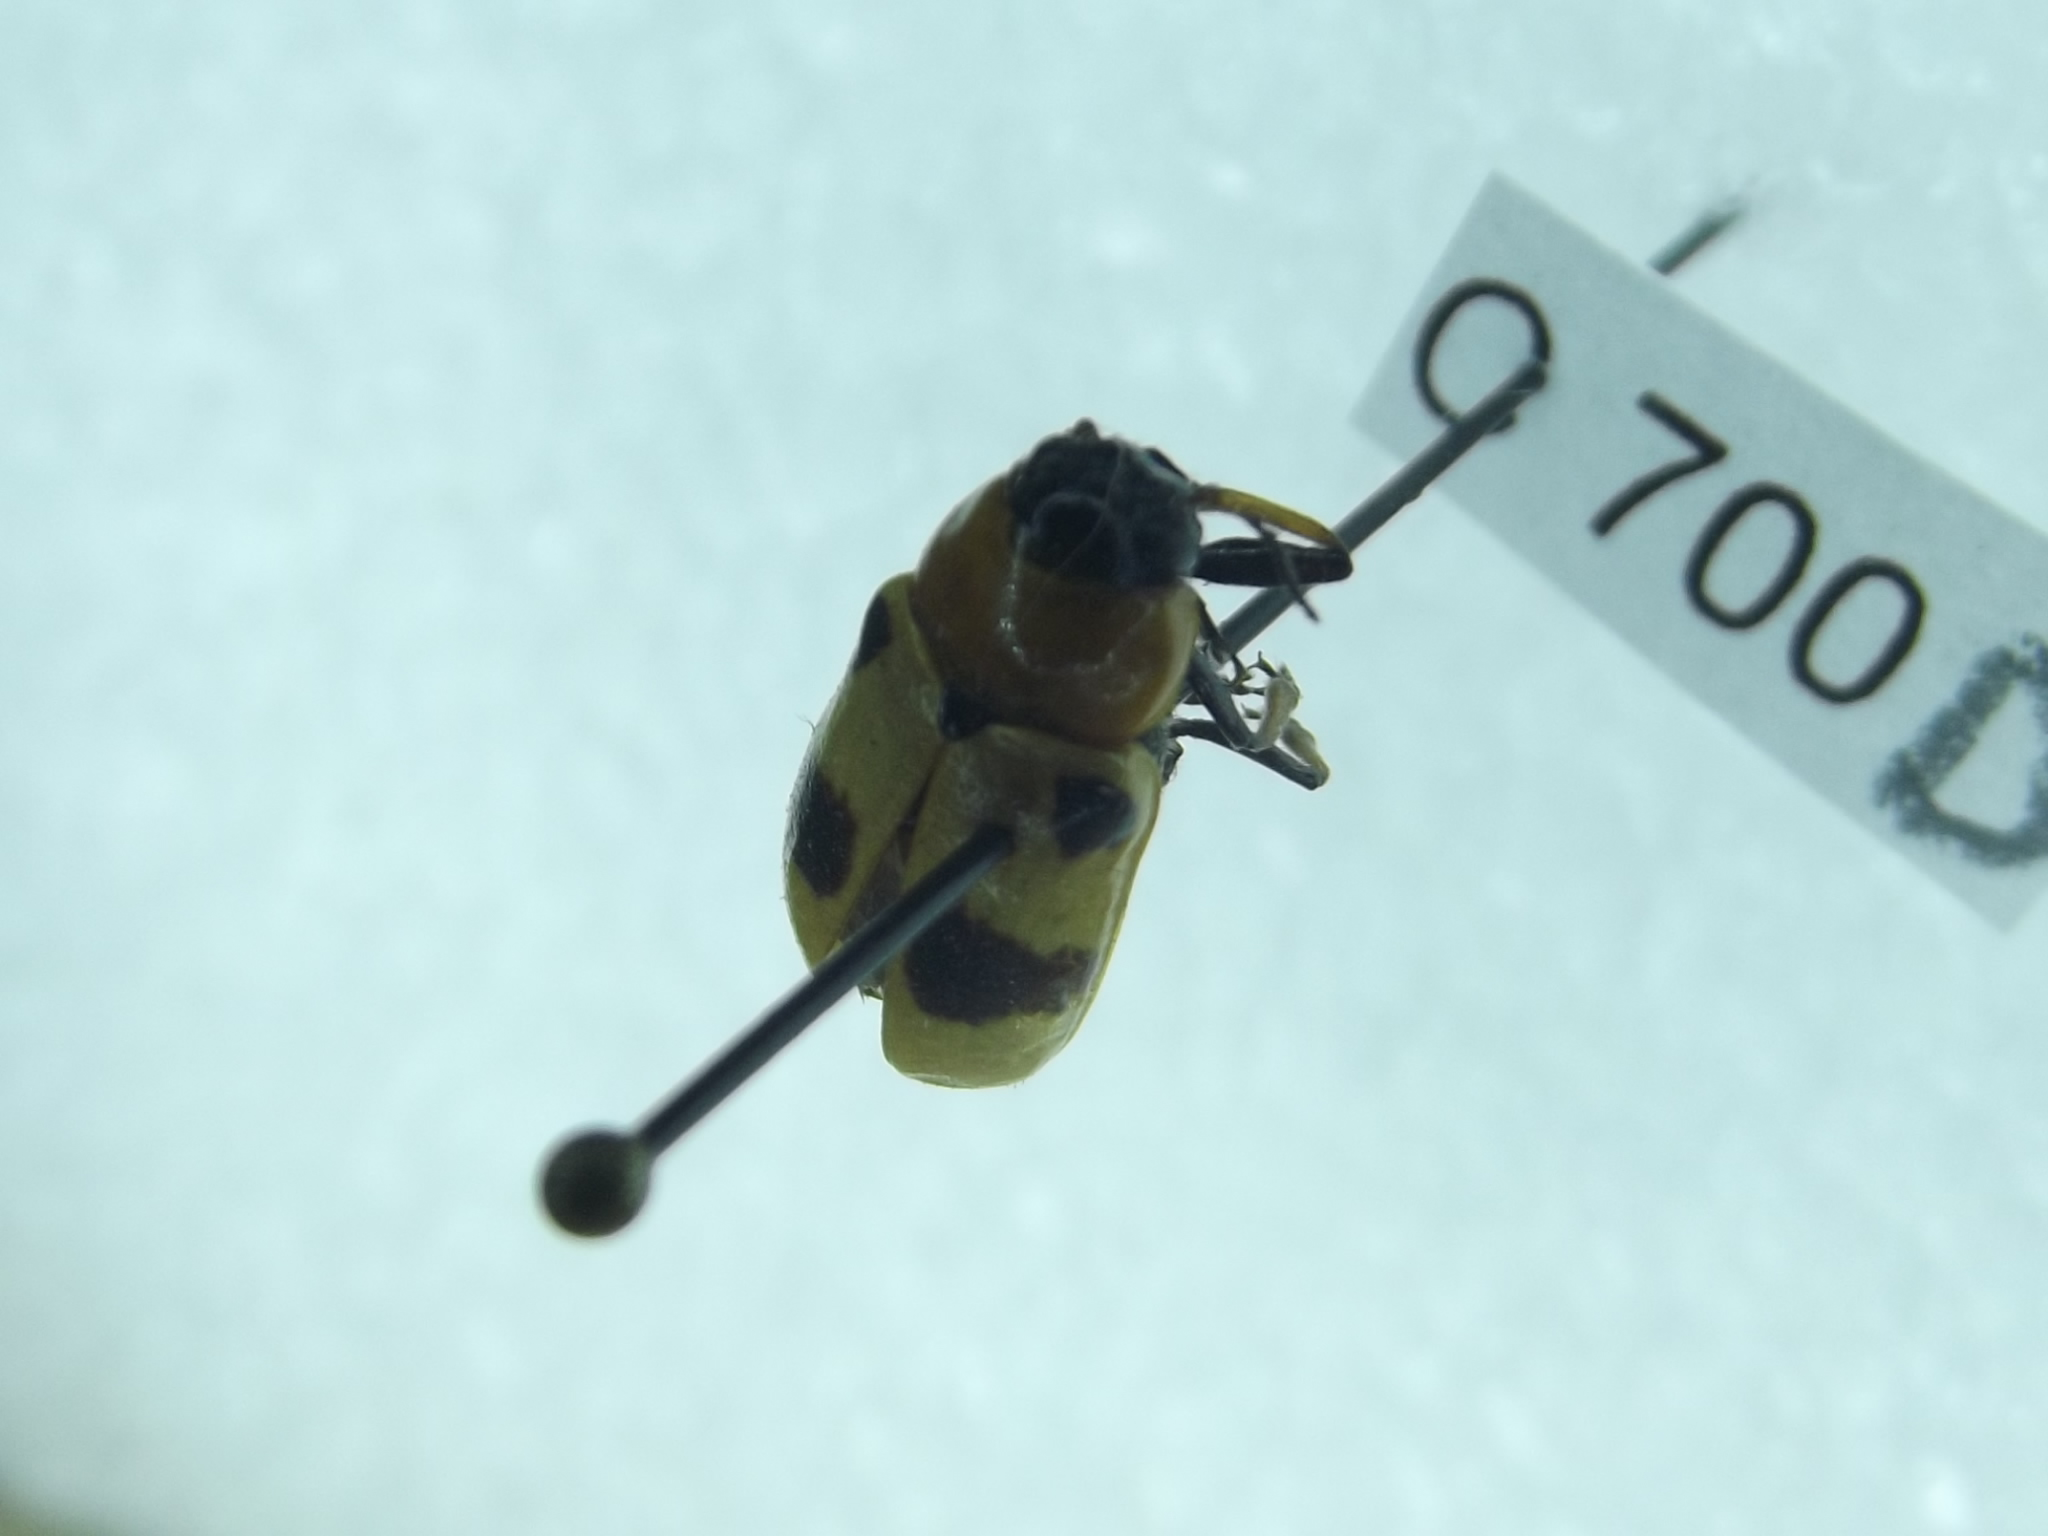Tituboea_macropus: (774, 389, 1345, 1107)
